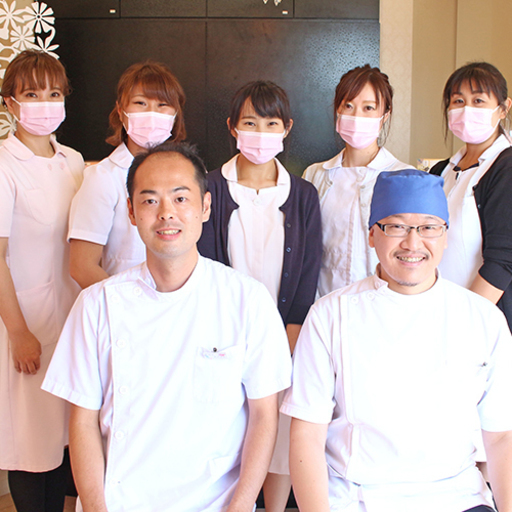mask: (446, 106, 499, 144), (333, 111, 383, 149), (125, 110, 176, 147), (236, 131, 285, 164), (14, 104, 66, 134)
